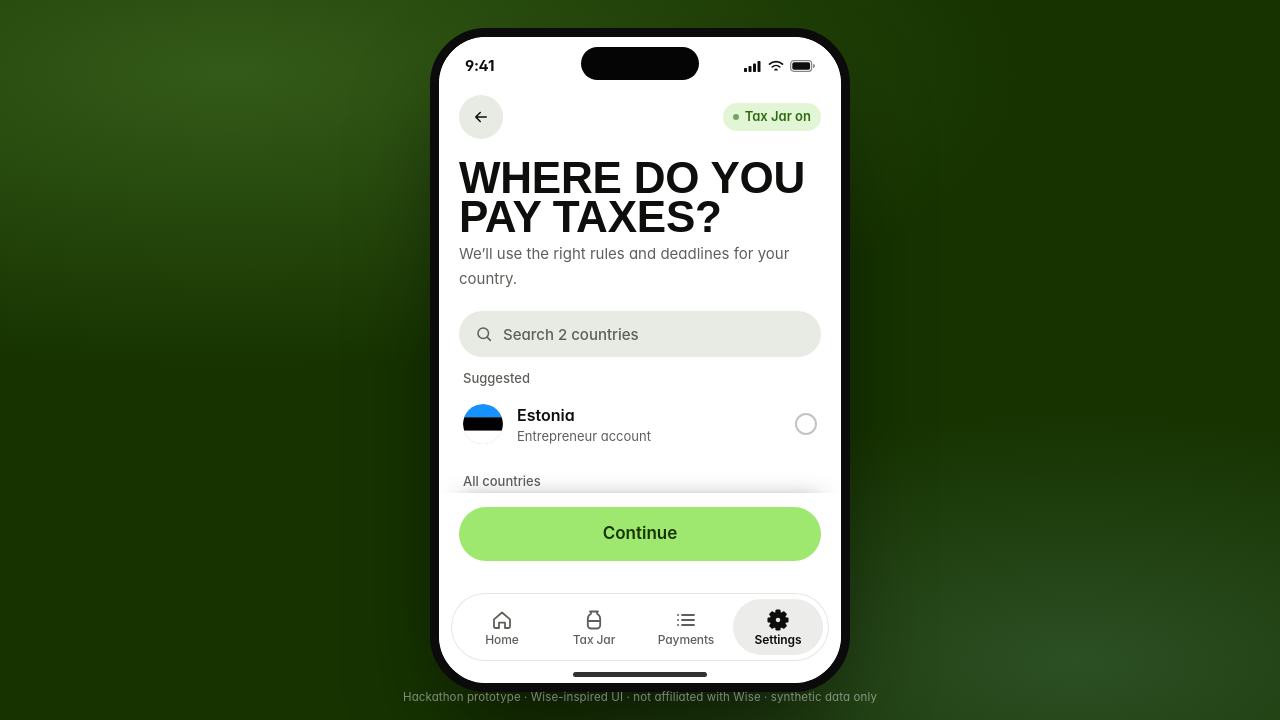
Test: "Leave without saving" goes where the person was heading
Earlier steps of the test are not shown.
Click the link "Payments": (686, 628) x1=658 y1=608 x2=714 y2=647
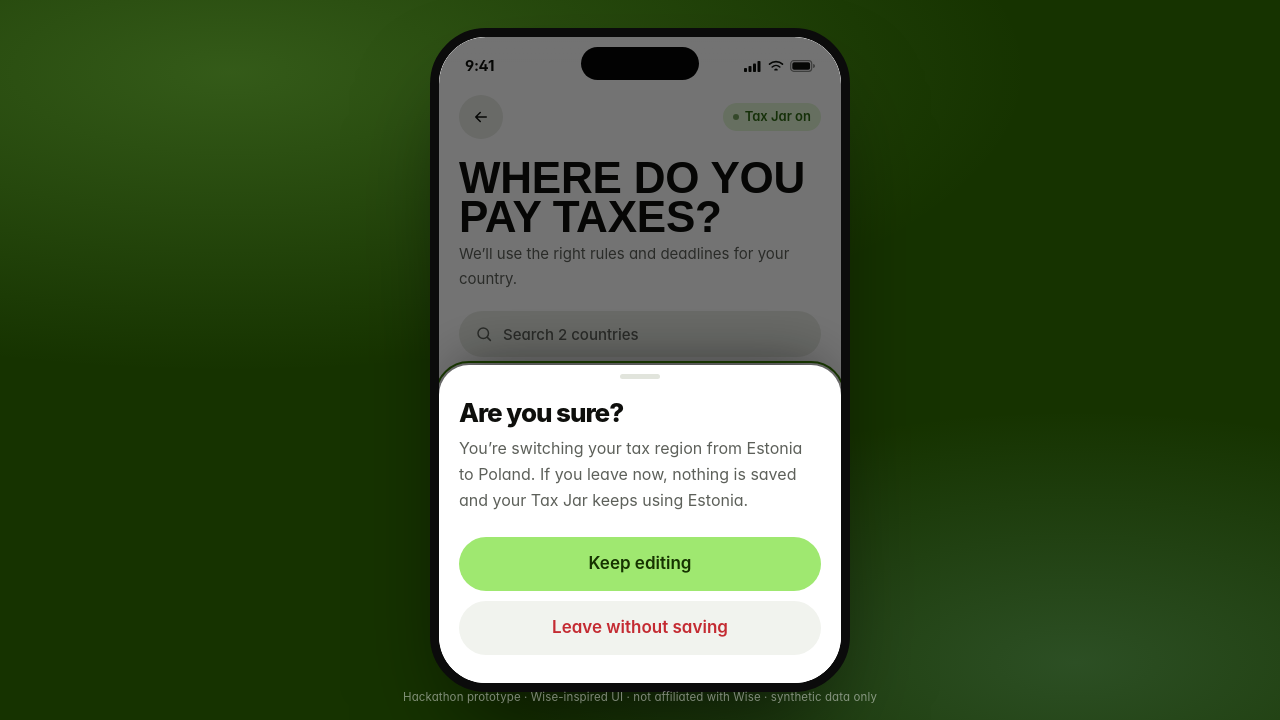
Click the button "Leave without saving": (640, 628) x1=459 y1=601 x2=821 y2=655
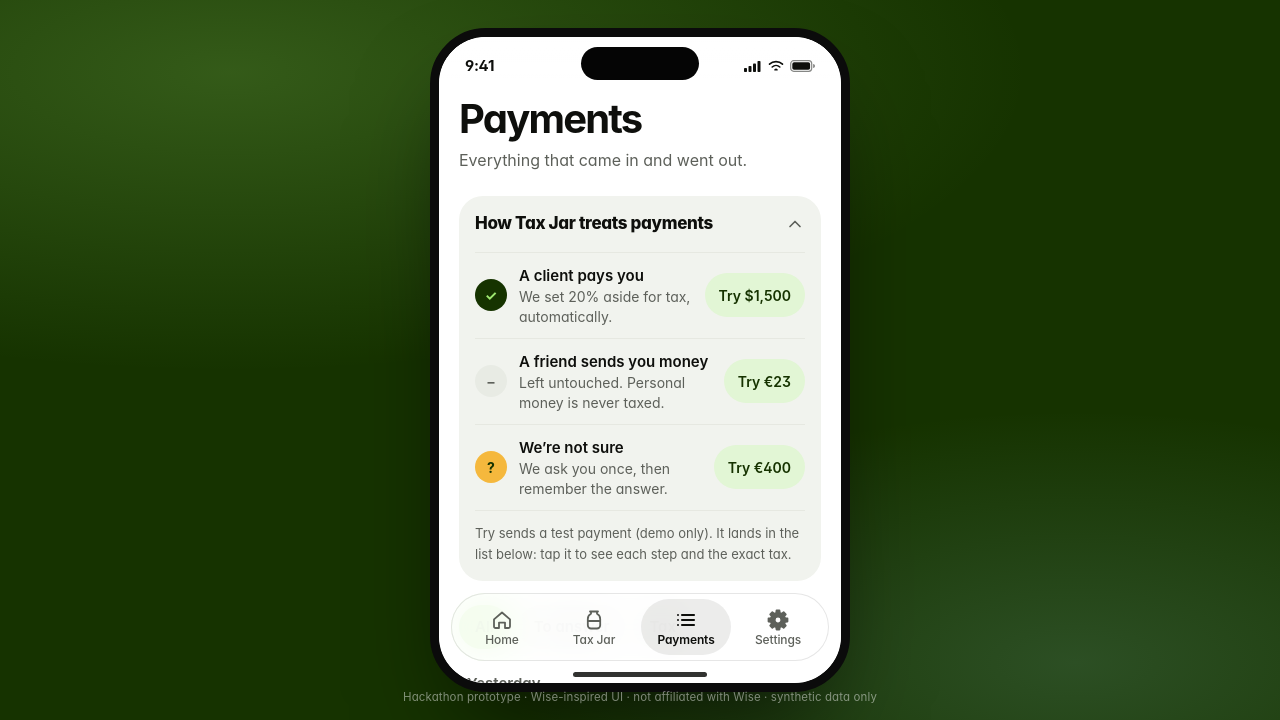
expect the heading "Payments" is shown: met, box x1=459 y1=94 x2=642 y2=143
expect the heading "Are you sure?" is gone: met
